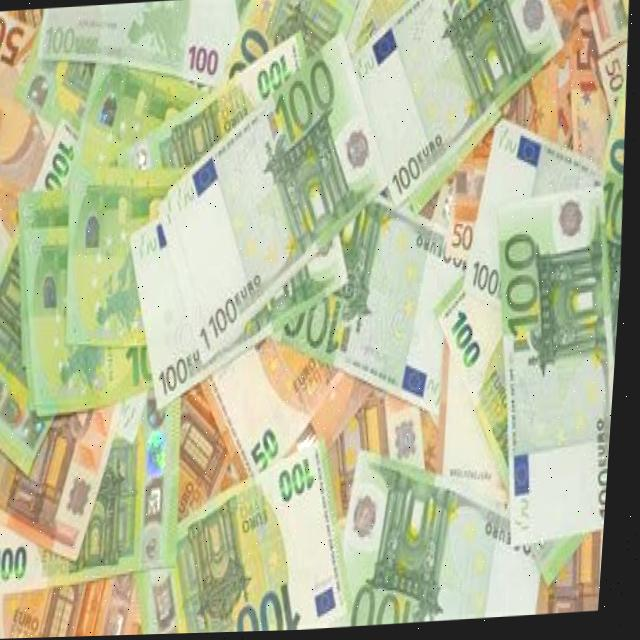banknote: (143, 35, 409, 403), (142, 30, 404, 369), (411, 273, 625, 598), (270, 196, 501, 436), (480, 192, 629, 553), (135, 414, 367, 636), (336, 0, 573, 212), (122, 183, 362, 381), (0, 393, 221, 599), (137, 442, 370, 636), (343, 438, 558, 629), (10, 218, 151, 409), (195, 332, 360, 489), (0, 396, 141, 568), (476, 111, 632, 257), (34, 0, 250, 97), (0, 212, 78, 479), (0, 5, 105, 194), (5, 180, 85, 367), (495, 223, 556, 354), (271, 62, 346, 152), (594, 96, 632, 250), (581, 49, 631, 130), (241, 580, 312, 634), (443, 305, 494, 379), (358, 581, 433, 628), (277, 457, 340, 512), (574, 0, 631, 60), (570, 3, 607, 81), (44, 131, 82, 205), (252, 44, 295, 108), (0, 537, 42, 596), (154, 350, 200, 403), (181, 41, 228, 89), (251, 425, 292, 480), (207, 299, 251, 347), (597, 183, 628, 250), (37, 20, 84, 61), (389, 157, 427, 205), (592, 54, 629, 100), (0, 16, 26, 72), (595, 464, 615, 530), (473, 262, 506, 302), (449, 220, 480, 261)
